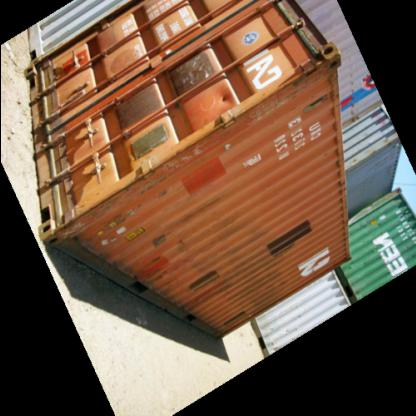Damage: (234, 57, 338, 124), (44, 183, 158, 240), (150, 120, 242, 186), (139, 230, 207, 262), (206, 272, 238, 310)
